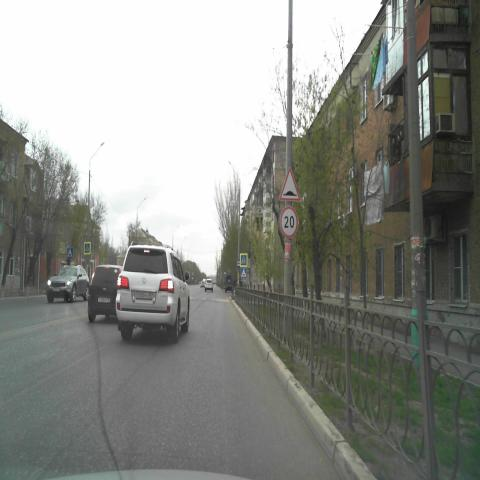3_24: (280, 204, 298, 238)
